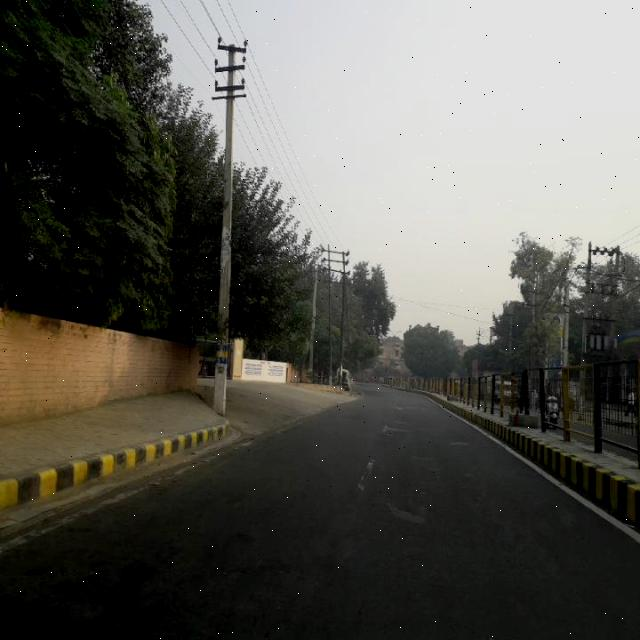D40: (383, 497, 426, 529)
D44: (0, 506, 102, 562), (100, 471, 202, 504), (351, 452, 375, 490)
